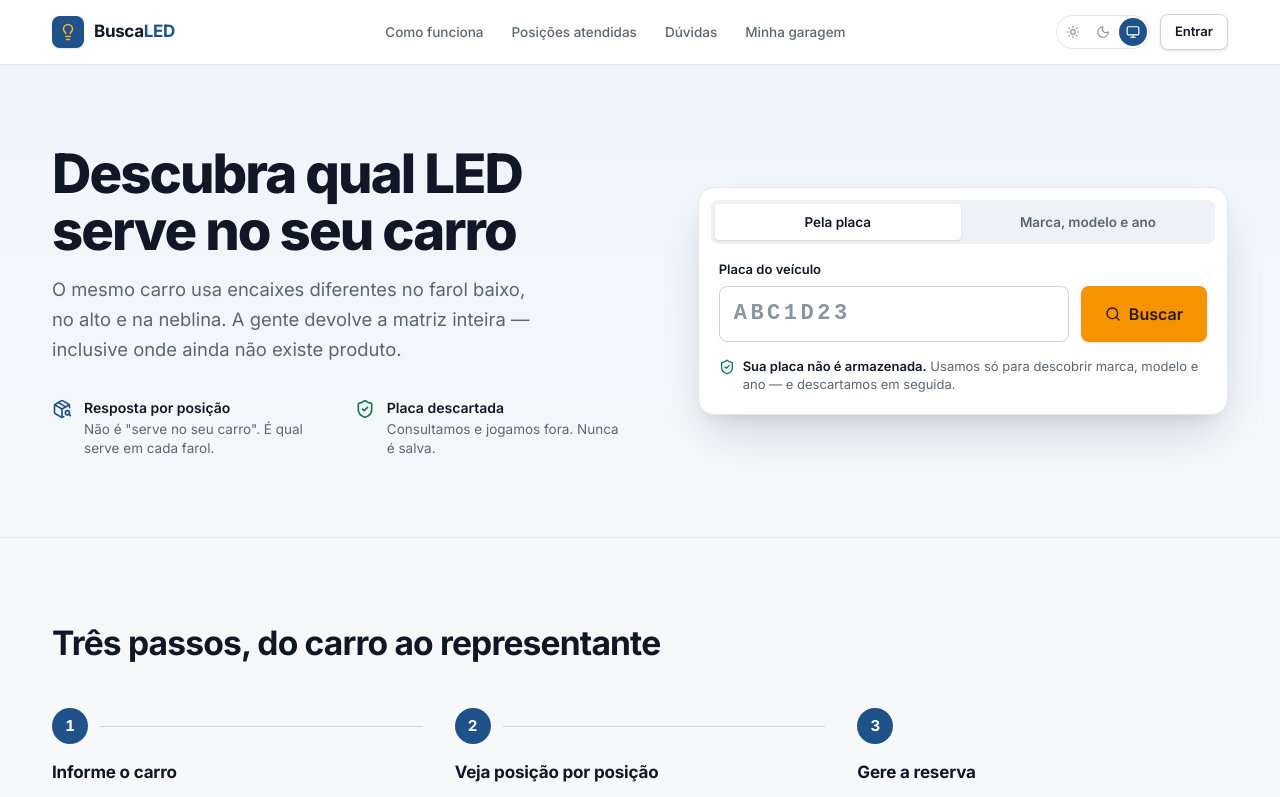
it: Landing › recusa placa com tamanho inválido em vez de buscar
This screenshot has width=1280, height=797.
Type "ABC" into the field labelled "Placa do veículo" at (894, 314), box [719,286,1069,342]
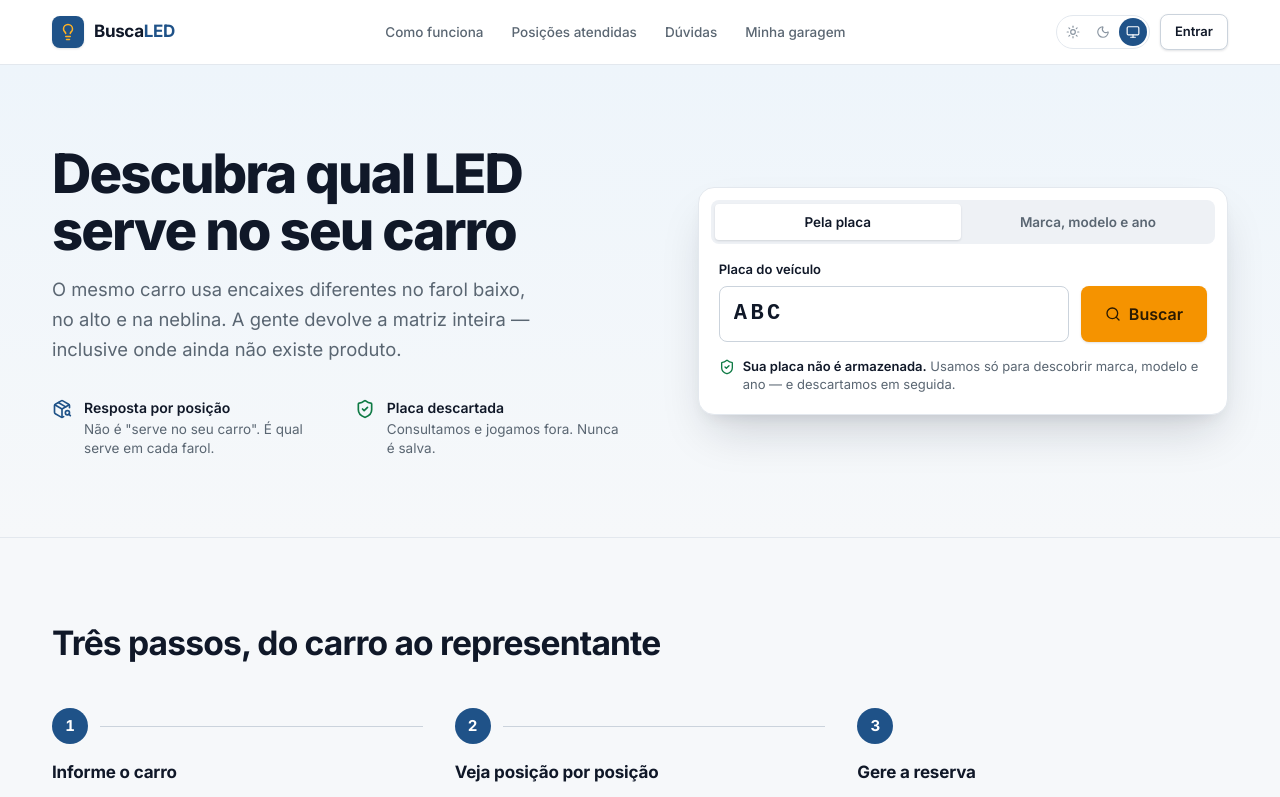
Click the button "Buscar" at (1144, 314), box [1081,286,1207,342]
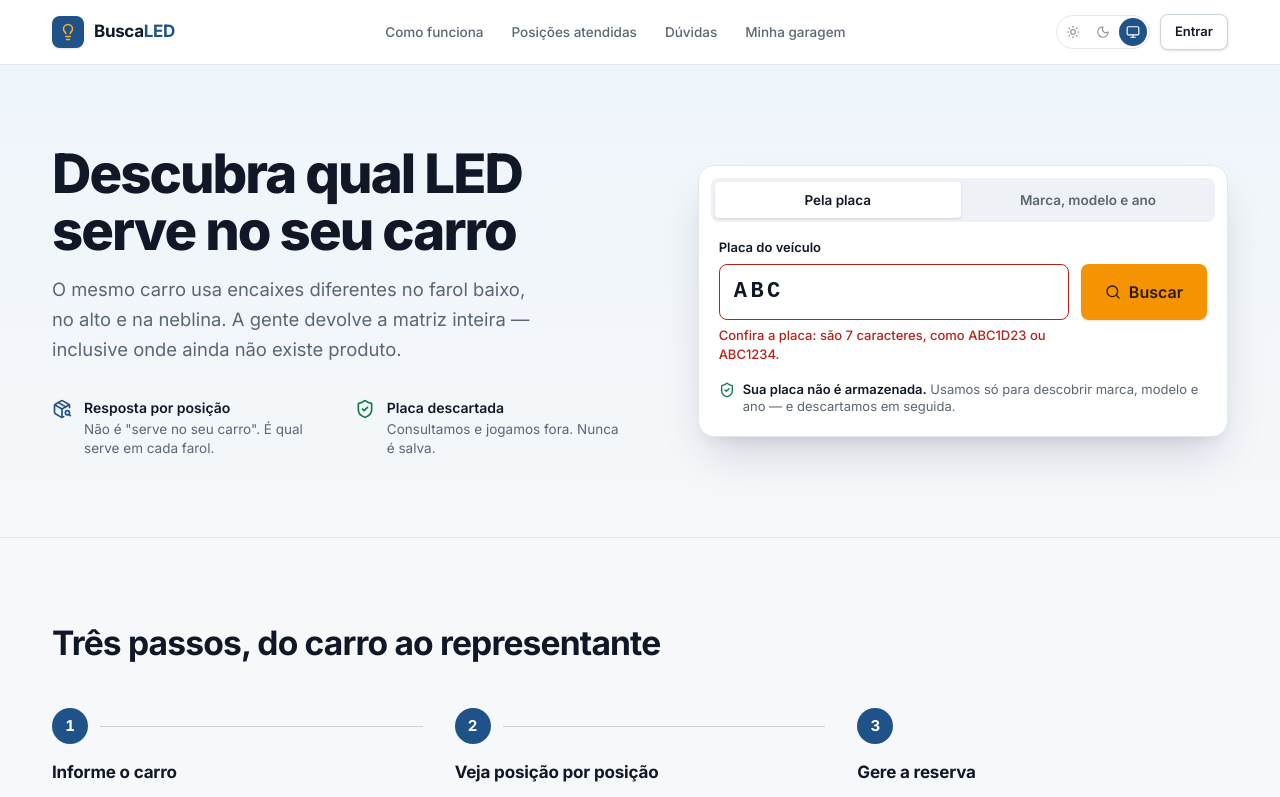
Now the message shows "Confira a placa", box [719,326,1046,362]
